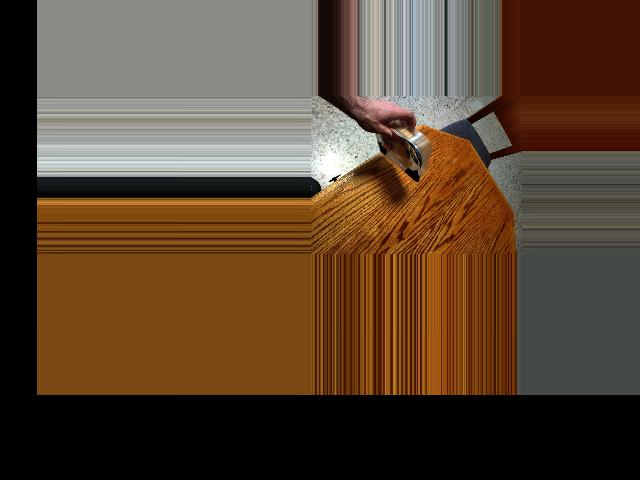cheese: (359, 123, 441, 181)
